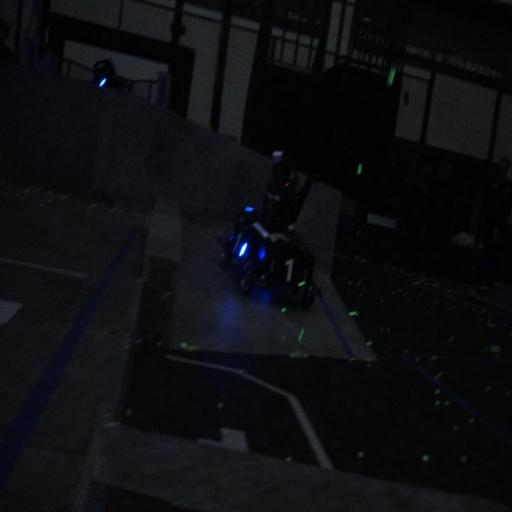target: (225, 224, 251, 262)
